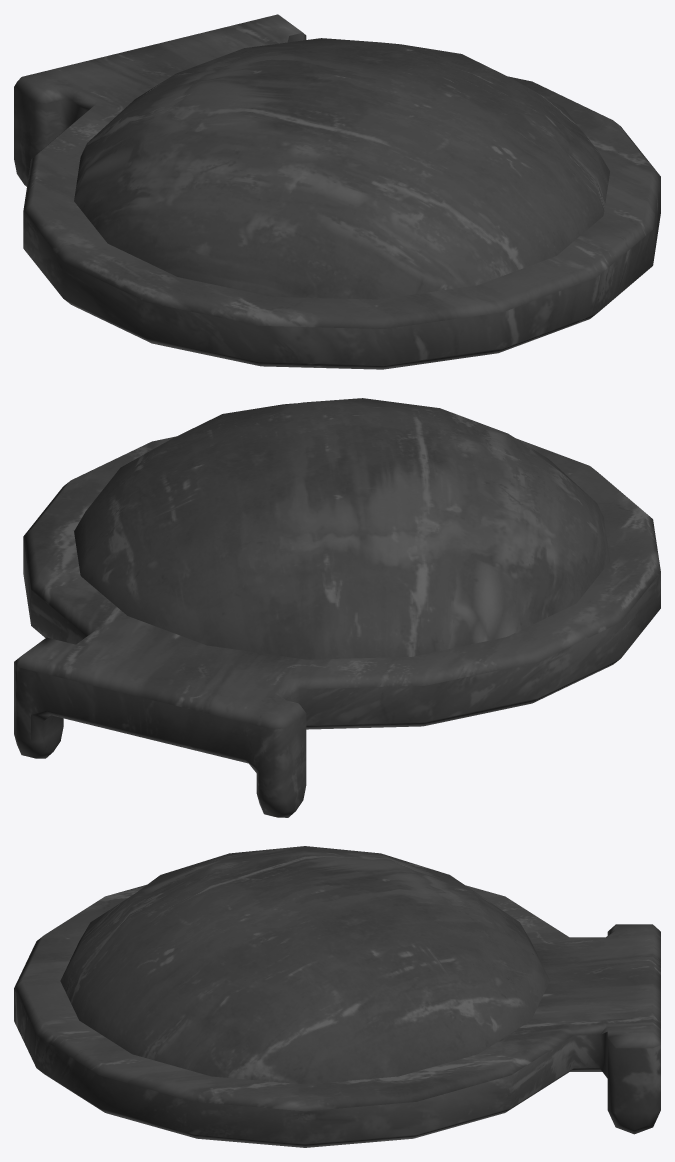
Rendered from pipecap_001.fbx.
3 renders of one model, top to bottom at view 1: azimuth 30°, elevation 25°; view 2: azimuth 150°, elevation 25°; view 3: azimuth 270°, elevation 25°, orthographic. The views are drawn at different scales.
Visible parts, largest first — view 1: pipecap_001; view 2: pipecap_001; view 3: pipecap_001.
Boxes of the visible parts, box(x1,y1,x2,y2) form: pipecap_001: box(14, 14, 660, 369); pipecap_001: box(14, 398, 660, 817); pipecap_001: box(14, 846, 660, 1147).
Bounding box in the file's own units: 725 × 805 × 263.
